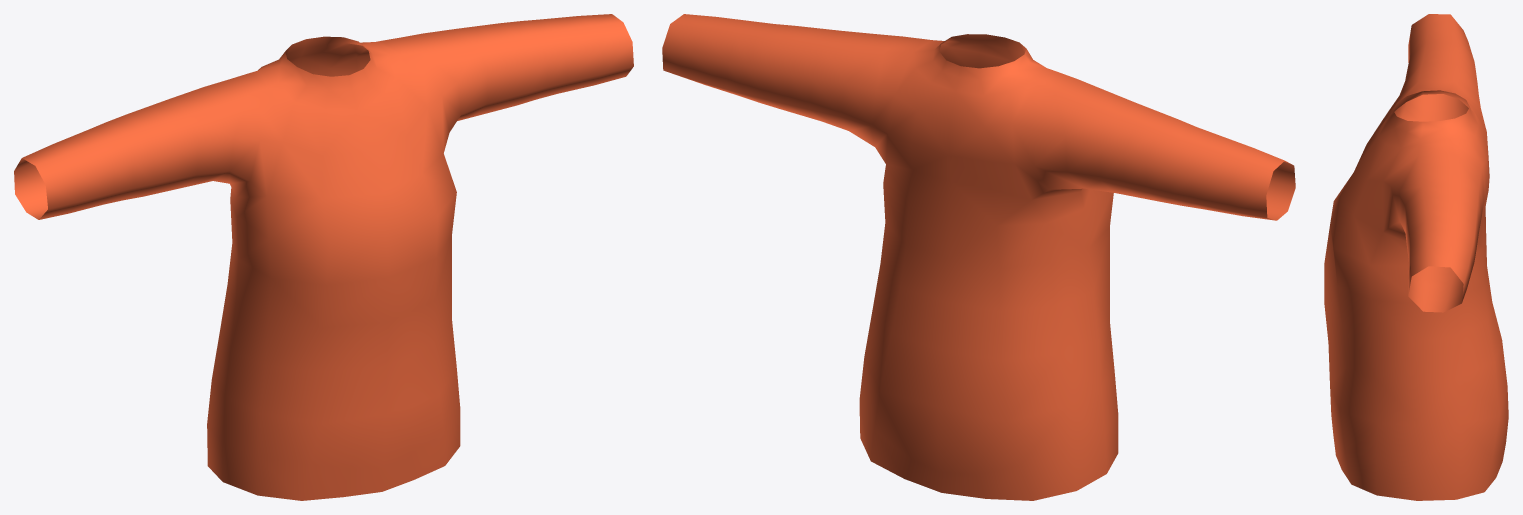
File: Outerwear_Orange_007.glb
The picture shows the model from 3 angles, left to right: view 1: azimuth 30°, elevation 25°; view 2: azimuth 150°, elevation 25°; view 3: azimuth 270°, elevation 25°; orthographic projection. The views are drawn at different scales.
Parts seen in each view (by area): view 1: Outerwear_Orange_007; view 2: Outerwear_Orange_007; view 3: Outerwear_Orange_007.
Part boxes in pixels (<box>): Outerwear_Orange_007: <box>14,14,633,500</box>; Outerwear_Orange_007: <box>662,14,1295,500</box>; Outerwear_Orange_007: <box>1324,14,1508,500</box>.
Bounding box in the file's own units: 1.22 × 0.8008 × 0.3763.
Materials: 1 (1 with a texture image).
